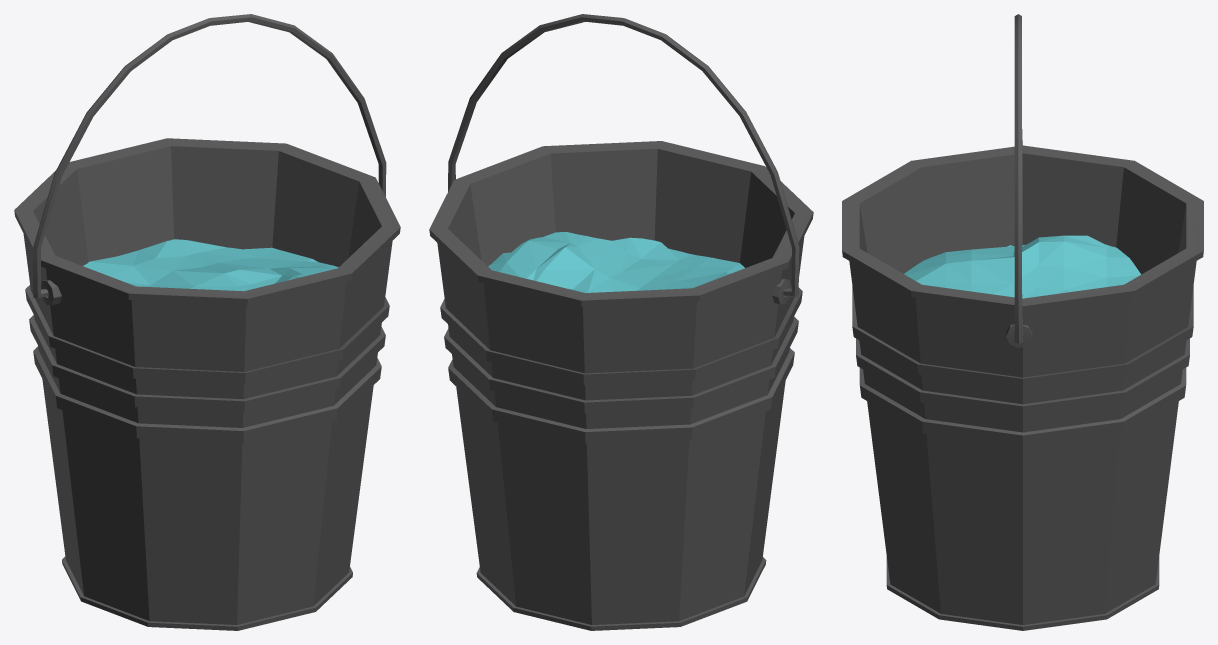
Rendered from bucket_full.glb.
3 views of the same model, side by side, from view 1: azimuth 30°, elevation 25°; view 2: azimuth 150°, elevation 25°; view 3: azimuth 270°, elevation 25° (orthographic). The views are drawn at different scales.
Visible parts, largest first — view 1: bucket_full_geo; view 2: bucket_full_geo; view 3: bucket_full_geo.
Part boxes in pixels (x1,y1,x2,y2): bucket_full_geo: [14, 14, 400, 630]; bucket_full_geo: [429, 14, 813, 630]; bucket_full_geo: [842, 14, 1203, 630].
Size of the model in its own units: 0.3361 by 0.5044 by 0.3048.
2 materials, 1 textured.
